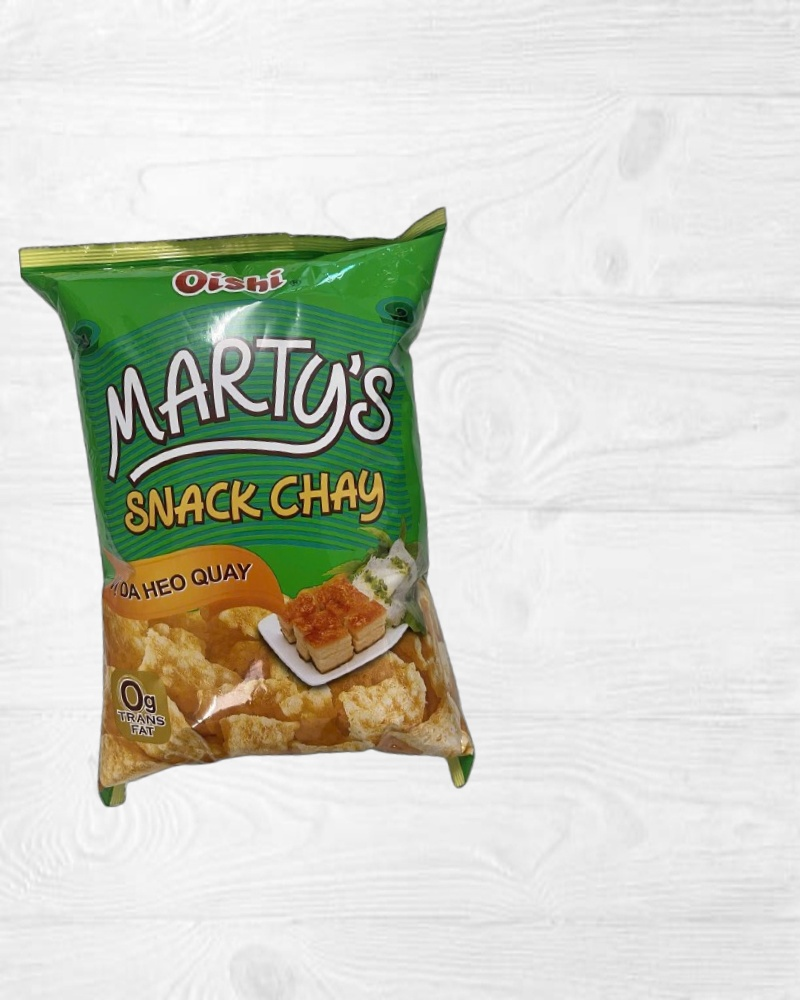Snack chay: (19, 207, 497, 823)
